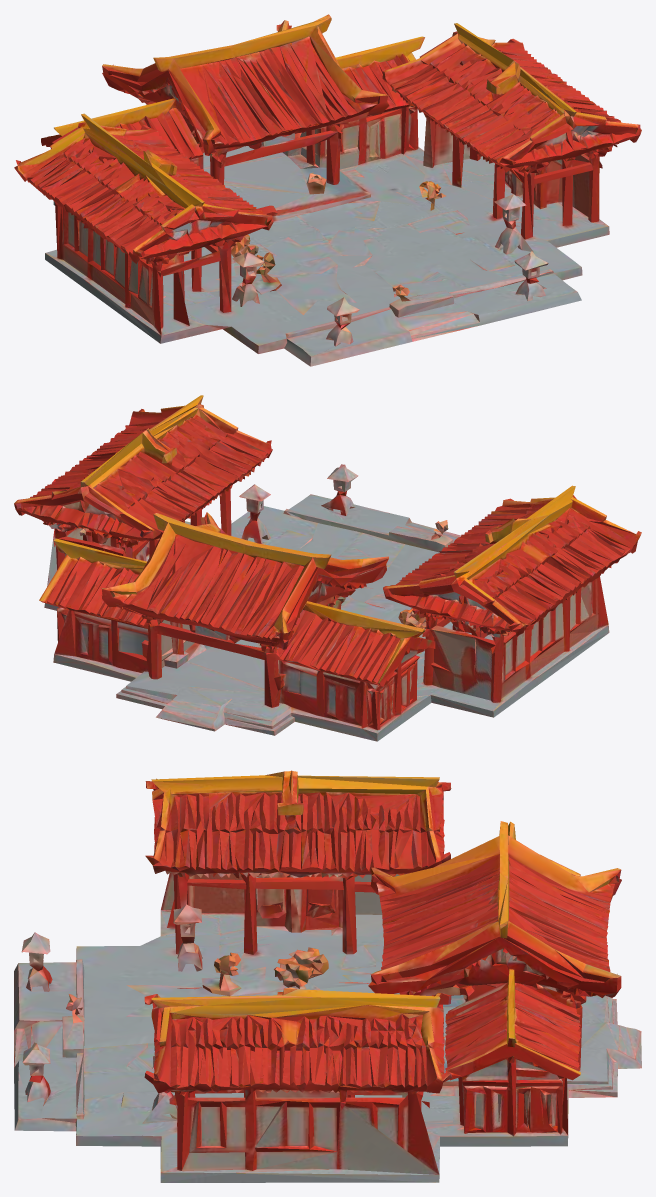
Rendered from ilha-sumo.glb.
The picture shows the model from 3 angles, top to bottom: view 1: azimuth 30°, elevation 25°; view 2: azimuth 150°, elevation 25°; view 3: azimuth 270°, elevation 25°; orthographic projection. The views are drawn at different scales.
Size of the model in its own units: 1.9 by 0.5323 by 1.69.
1 material, 1 textured.
